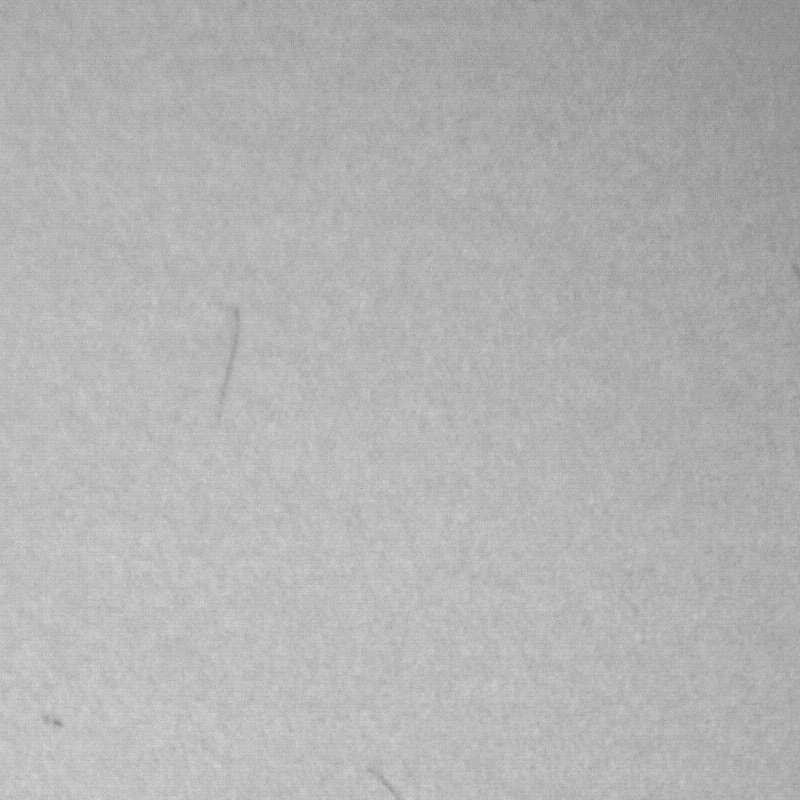defect: (214, 307, 238, 430), (366, 762, 406, 800), (44, 709, 68, 733), (788, 261, 800, 272)
